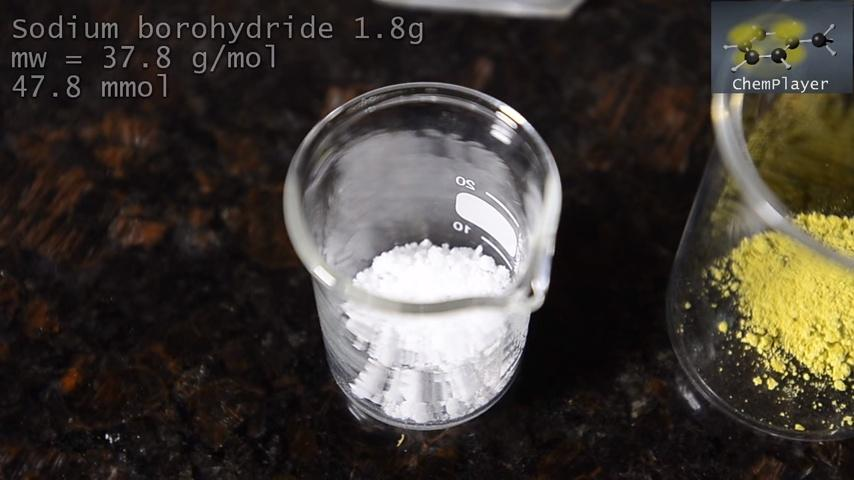Beaker: (277, 84, 552, 432)
